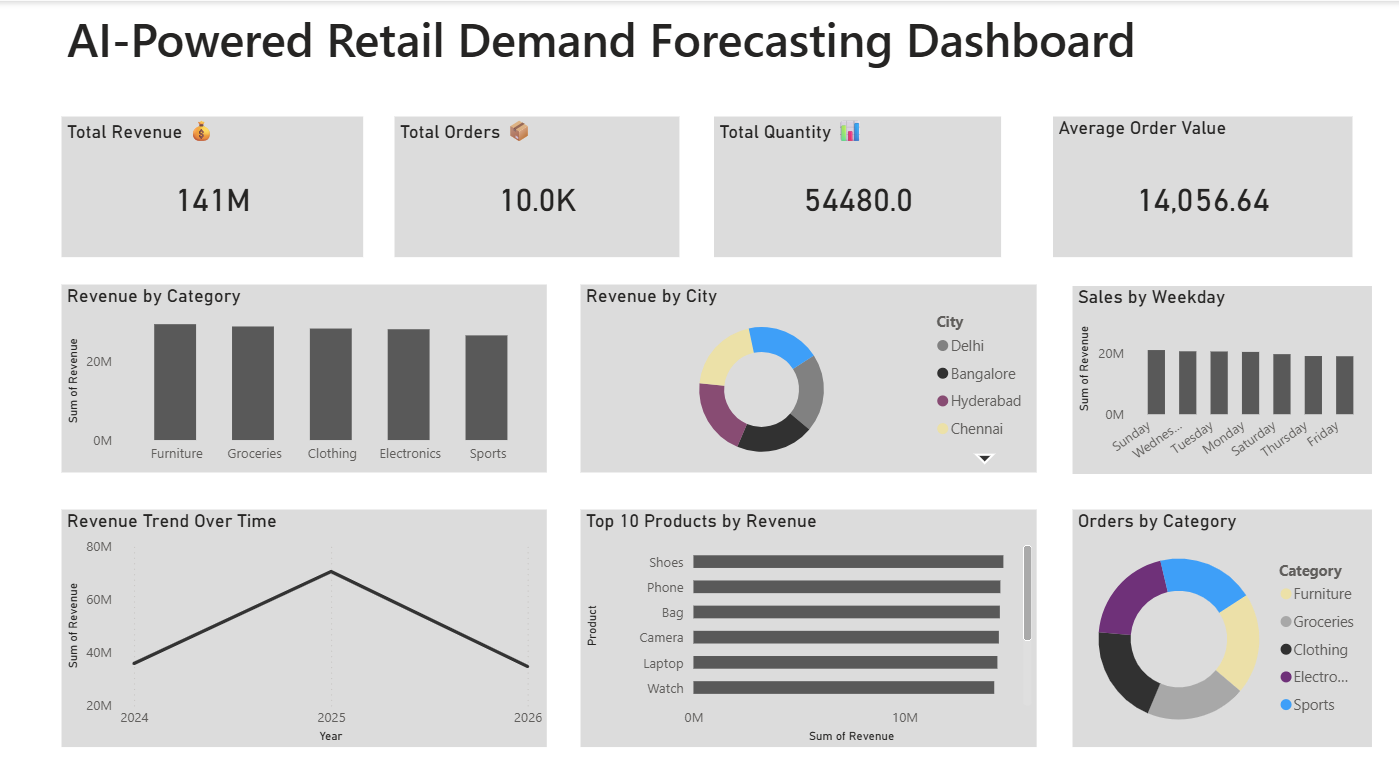

The page's visual inventory and layout, read from the dashboard file:
{"tool":"powerbi","page":{"name":"Page 1","canvas":[1280,720],"ordinal":0},"visuals":[{"type":"card","title":"Total Revenue 💰","fields":{"Values":["Sum(Retail_Dataset.Revenue)"]},"box":[56.7,105.8,275.9,128.5],"z":0},{"type":"card","title":"Total Orders 📦","fields":{"Values":["CountNonNull(Retail_Dataset.Order_ID)"]},"box":[360.9,105.8,260.8,128.5],"z":1000},{"type":"card","title":"Total Quantity 📊","fields":{"Values":["Sum(Retail_Dataset.Quantity)"]},"box":[653.9,105.8,262.7,128.5],"z":2000},{"type":"card","title":"Average Order Value","fields":{"Values":["Retail_Dataset.Average Order Value"]},"box":[963.8,105.8,274,128.5],"z":3000},{"type":"textbox","box":[56.7,0,1221,68],"z":4000},{"type":"clusteredColumnChart","title":"Revenue by Category","fields":{"Category":["Retail_Dataset.Category"],"Y":["Sum(Retail_Dataset.Revenue)"]},"box":[56.7,258.9,444.1,172],"z":5000},{"type":"donutChart","title":"Revenue by City","fields":{"Category":["Retail_Dataset.City"],"Y":["Sum(Retail_Dataset.Revenue)"]},"box":[531,258.9,417.6,172],"z":6000},{"type":"lineChart","title":"Revenue Trend Over Time","fields":{"Category":["Retail_Dataset.Order_Date.Variation.Date Hierarchy.Year","Retail_Dataset.Order_Date.Variation.Date Hierarchy.Quarter","Retail_Dataset.Order_Date.Variation.Date Hierarchy.Month","Retail_Dataset.Order_Date.Variation.Date Hierarchy.Day"],"Y":["Sum(Retail_Dataset.Revenue)"]},"box":[56.7,464.9,444.1,217.3],"z":7000},{"type":"clusteredBarChart","title":"Top 10 Products by Revenue","fields":{"Y":["Sum(Retail_Dataset.Revenue)"],"Category":["Retail_Dataset.Product"]},"box":[531,464.9,417.6,217.3],"z":8000},{"type":"clusteredColumnChart","title":"Sales by Weekday","fields":{"Category":["Retail_Dataset.Weekday"],"Y":["Sum(Retail_Dataset.Revenue)"]},"box":[980.8,260.8,274,172],"z":9000},{"type":"donutChart","title":"Orders by Category","fields":{"Category":["Retail_Dataset.Category"],"Y":["CountNonNull(Retail_Dataset.Order_ID)"]},"box":[981,465,274,217],"z":10000}]}

Visuals, with their boxes in screenshot pixels (x1, y1, x2, y2), scaled from the page's 1280x720 canvas onto the 1399x784 screenshot:
"Total Revenue 💰" card: 62 115 364 255
"Total Orders 📦" card: 394 115 679 255
"Total Quantity 📊" card: 715 115 1002 255
"Average Order Value" card: 1053 115 1353 255
textbox: 62 0 1396 74
"Revenue by Category" clusteredColumnChart: 62 282 547 469
"Revenue by City" donutChart: 580 282 1037 469
"Revenue Trend Over Time" lineChart: 62 506 547 743
"Top 10 Products by Revenue" clusteredBarChart: 580 506 1037 743
"Sales by Weekday" clusteredColumnChart: 1072 284 1371 471
"Orders by Category" donutChart: 1072 506 1372 743
